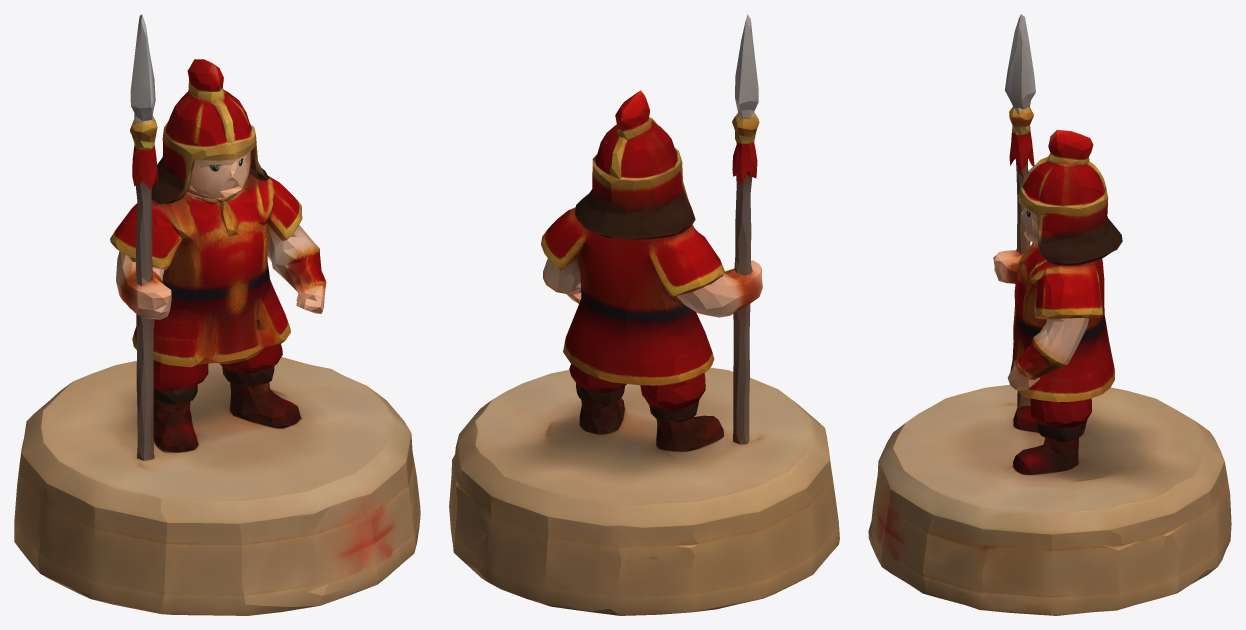
File: soldier_red.glb
3 views of the same model, side by side, from view 1: azimuth 30°, elevation 25°; view 2: azimuth 150°, elevation 25°; view 3: azimuth 270°, elevation 25° (orthographic). The views are drawn at different scales.
Visible parts, largest first — view 1: Mesh; view 2: Mesh; view 3: Mesh.
Boxes of the visible parts, x1,y1,x2,y2 form: Mesh: [14, 14, 420, 615]; Mesh: [449, 14, 839, 615]; Mesh: [868, 14, 1231, 615].
Bounding box in the file's own units: 1.26 × 1.88 × 1.27.
1 material, 1 textured.
